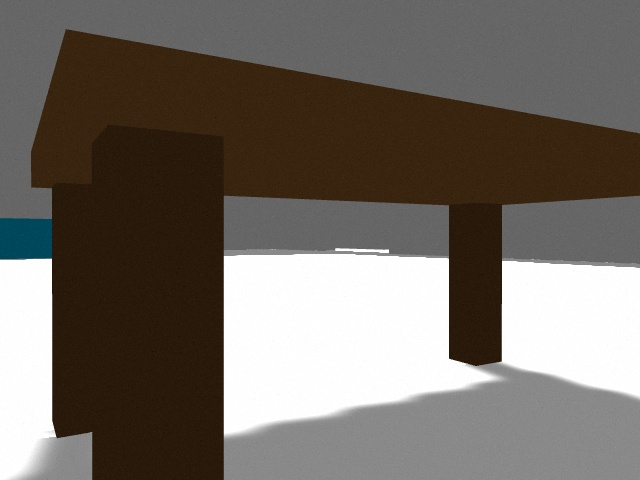blue_drop_zone: (0, 218, 52, 259)
